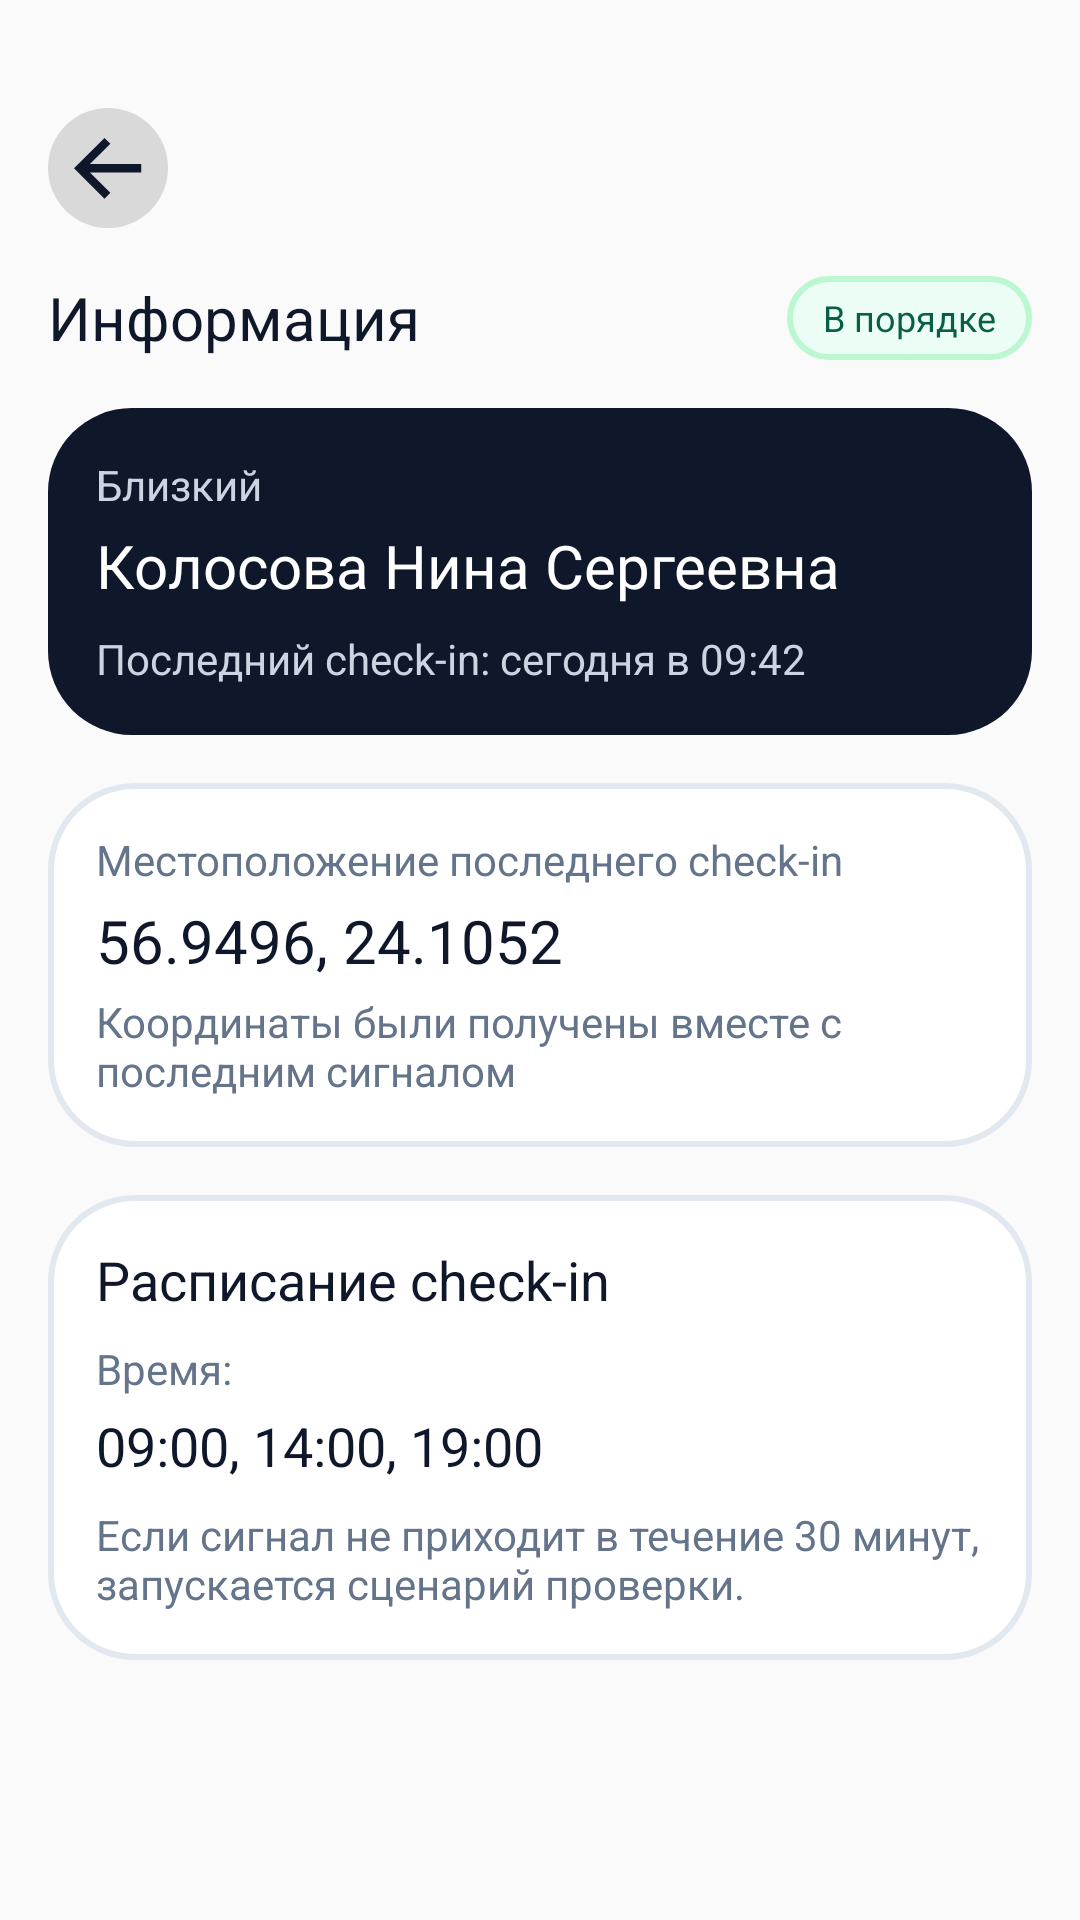

Icon bounding boxes for this 1080w x 1920h phone screenshot, format box=[x1, y1, x2, y2]:
arrow back: box=[48, 108, 168, 228]
